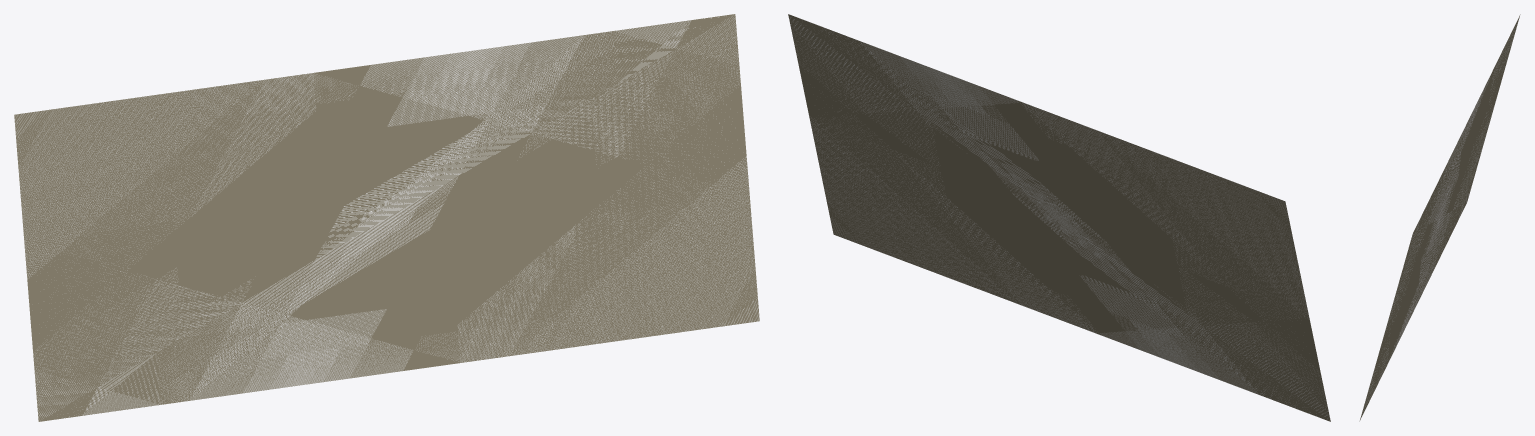
Rendered from 大本钟59.dae.
The picture shows the model from 3 angles, left to right: view 1: azimuth 30°, elevation 25°; view 2: azimuth 150°, elevation 25°; view 3: azimuth 270°, elevation 25°; orthographic projection. The views are drawn at different scales.
Parts seen in each view (by area): view 1: SketchUp; view 2: SketchUp; view 3: SketchUp.
Boxes of the visible parts, <box> form: SketchUp: <box>14,14,759,421</box>; SketchUp: <box>788,14,1330,421</box>; SketchUp: <box>1359,14,1520,421</box>.
Bounding box in the file's own units: 39.95 × 12.12 × 16.02.
